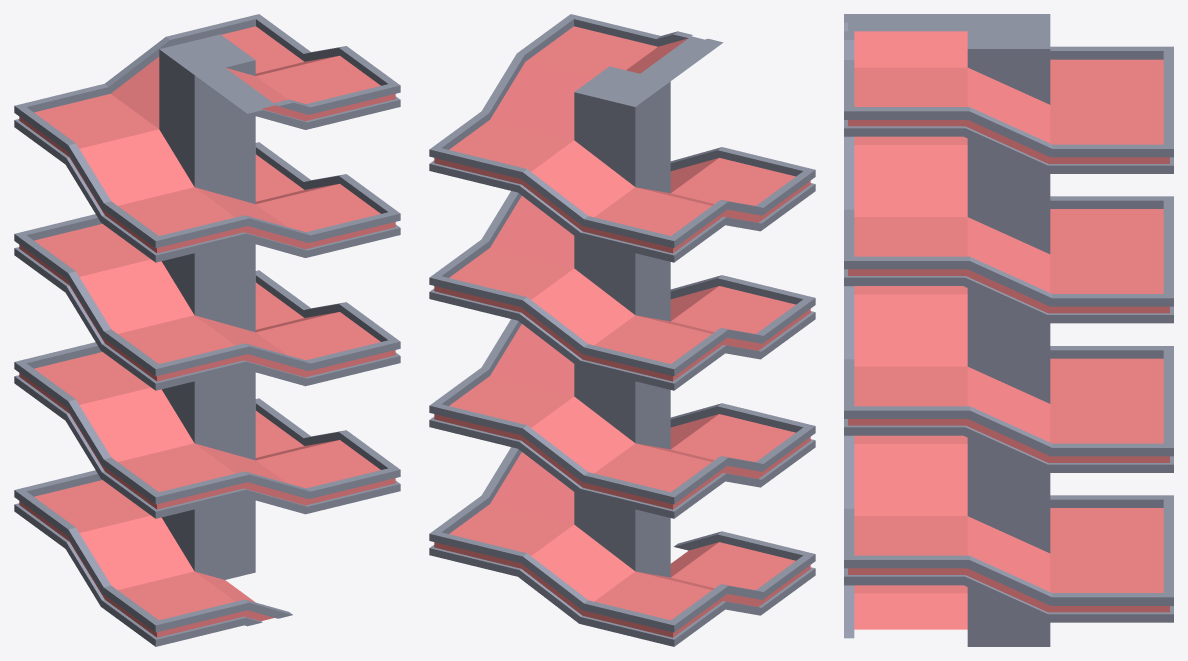
File: building_ramp-red_v01.gltf
3 views of the same model, side by side, from view 1: azimuth 30°, elevation 25°; view 2: azimuth 150°, elevation 25°; view 3: azimuth 270°, elevation 25° (orthographic). The views are drawn at different scales.
Visible parts, largest first — view 1: top red face, massing, core, side red face; view 2: top red face, massing, core, side red face; view 3: top red face, massing, core, side red face.
Boxes of the visible parts, left/top/right/bottom form: top red face: left=34, top=26, right=380, bottom=620; massing: left=14, top=14, right=400, bottom=646; core: left=159, top=34, right=255, bottom=579; side red face: left=19, top=94, right=395, bottom=637; top red face: left=449, top=26, right=795, bottom=620; massing: left=429, top=14, right=815, bottom=646; core: left=574, top=66, right=670, bottom=577; side red face: left=434, top=158, right=810, bottom=637; top red face: left=854, top=31, right=1163, bottom=629; massing: left=844, top=14, right=1173, bottom=638; core: left=967, top=14, right=1050, bottom=646; side red face: left=848, top=120, right=1169, bottom=612.
Size of what is drawn, in the model's own units: 8 by 16 by 8.
